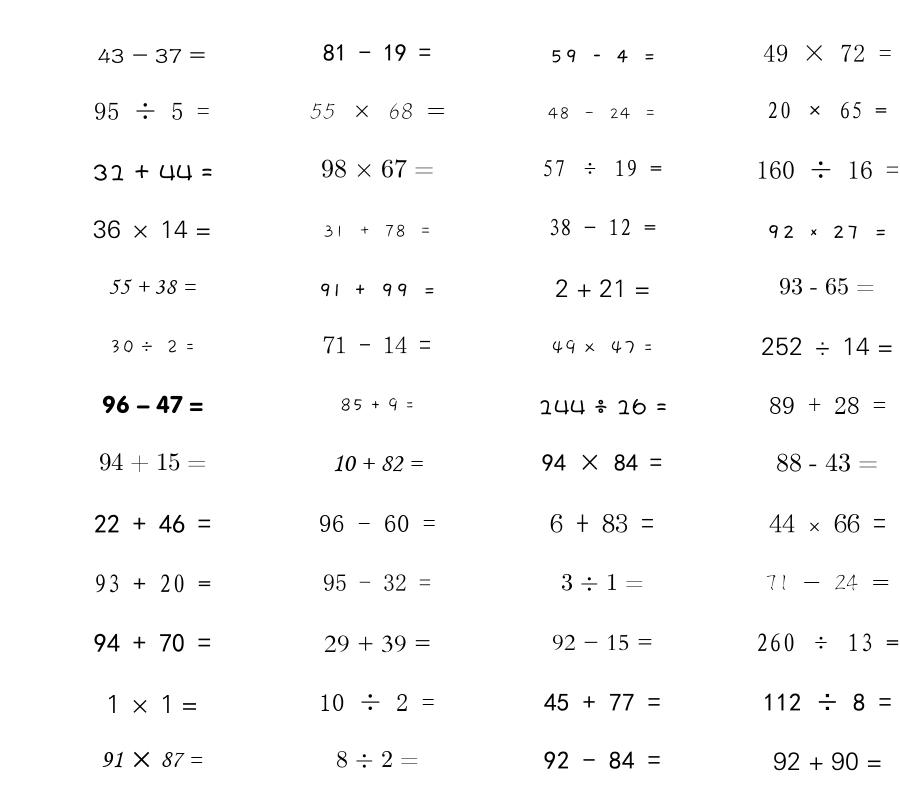MQ: (756, 160, 899, 179), (756, 633, 899, 652), (761, 337, 893, 356), (94, 633, 211, 653), (763, 44, 892, 62), (763, 693, 892, 711), (93, 220, 211, 239), (94, 514, 211, 533), (769, 514, 886, 533), (94, 574, 211, 593), (538, 398, 667, 415), (310, 103, 445, 119), (767, 101, 887, 119), (542, 159, 662, 177), (321, 159, 434, 178), (99, 453, 206, 473), (765, 574, 890, 591), (544, 693, 661, 711), (544, 751, 661, 769), (94, 102, 210, 120), (319, 693, 435, 711), (550, 513, 654, 533), (773, 752, 882, 771), (92, 164, 213, 181), (542, 454, 662, 471), (769, 397, 886, 414), (319, 515, 436, 532), (548, 218, 656, 236), (323, 336, 431, 354), (776, 453, 878, 472), (324, 635, 431, 653), (102, 395, 203, 414), (323, 44, 431, 61), (323, 574, 431, 591), (101, 751, 203, 768), (98, 48, 206, 64), (779, 277, 875, 295), (552, 634, 653, 651), (555, 279, 650, 297), (766, 225, 888, 239), (106, 695, 198, 713), (318, 283, 436, 297), (551, 339, 653, 355), (332, 455, 423, 472), (323, 224, 432, 238), (549, 49, 656, 63), (561, 573, 644, 591), (336, 750, 419, 768), (548, 107, 657, 120), (108, 279, 196, 294), (109, 339, 195, 354), (340, 398, 415, 412)
